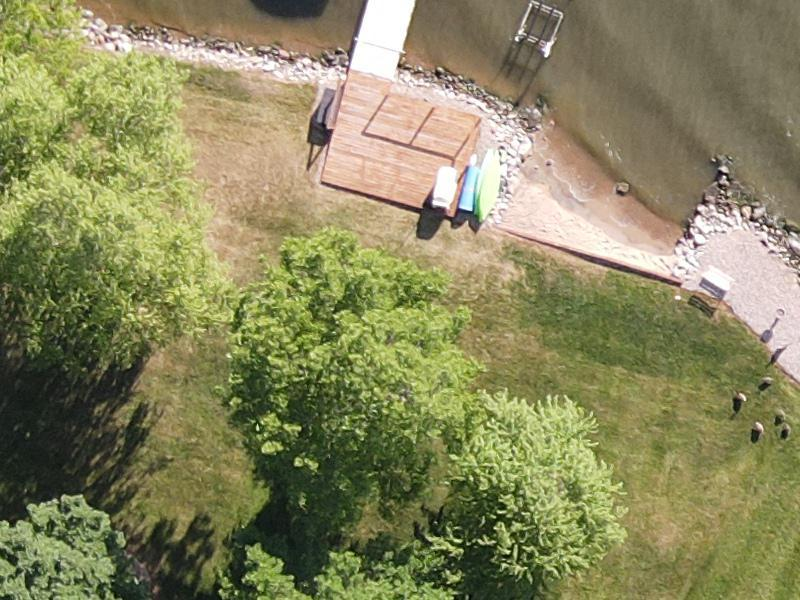boat: (321, 0, 511, 83)
